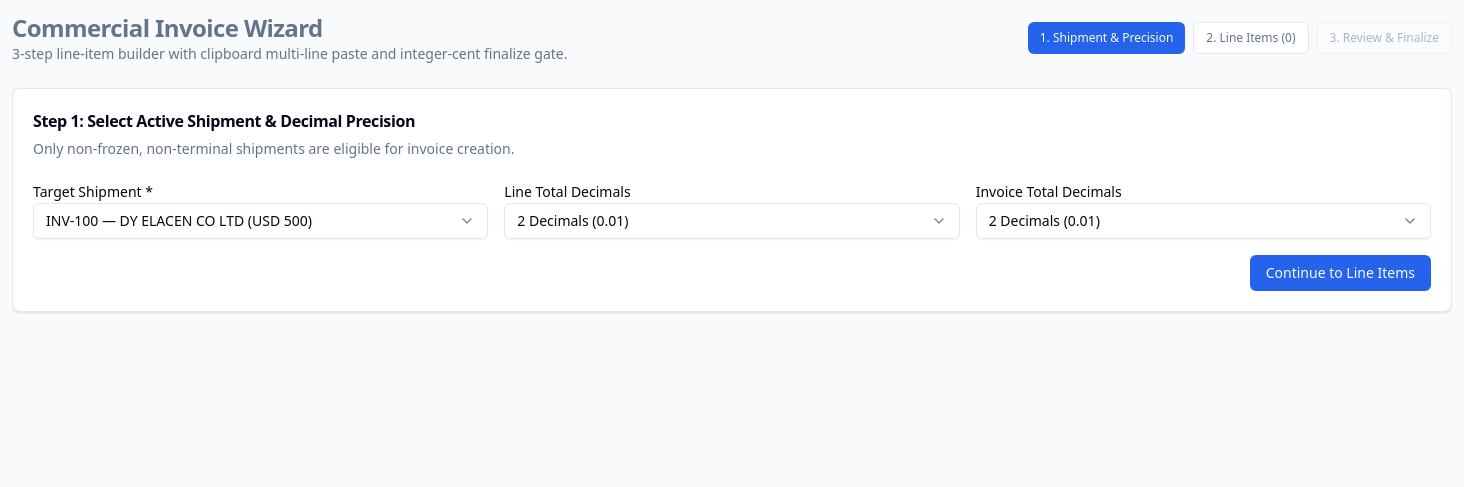
Test: Stage 5 Shipments & Invoice Wizard UI › filters Add Catalog Item in Invoice Wizard to shipment supplier by default and supports toggling
This screenshot has width=1464, height=487.
Click the button "Continue to Line Items" at (1340, 273), box [1250,255,1431,291]
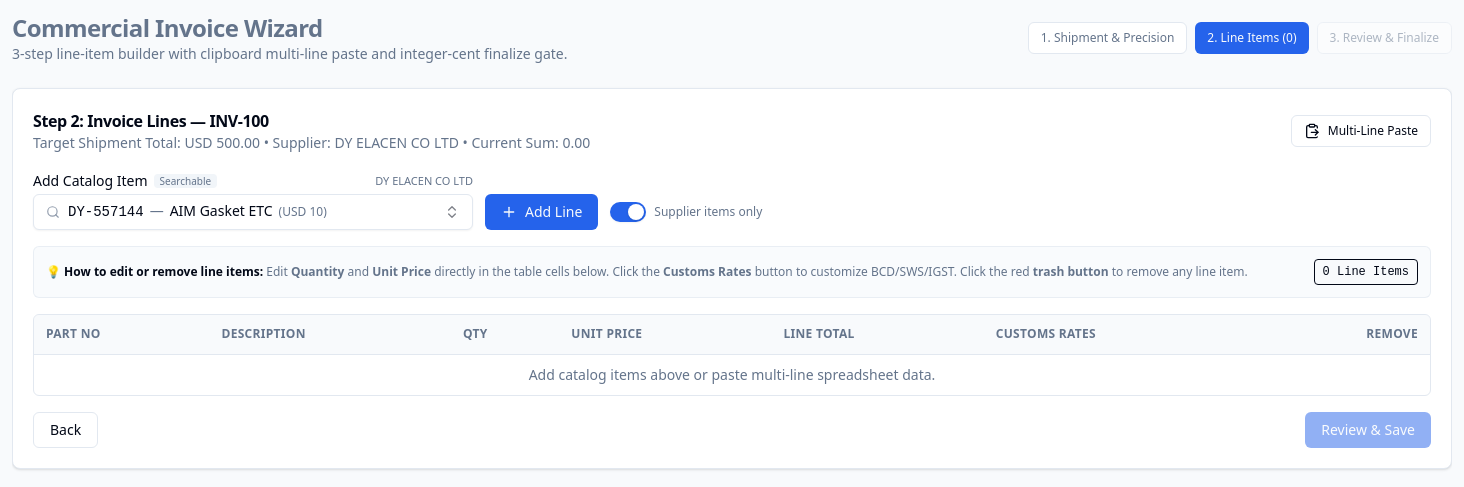
Now the switch named "Supplier items only" is checked
Now the text "DY-557144" is shown, box [68,204,144,220]
Toggle off "Supplier items only" to show all items
Click the switch named "Supplier items only" at (628, 212), box [610,202,646,222]
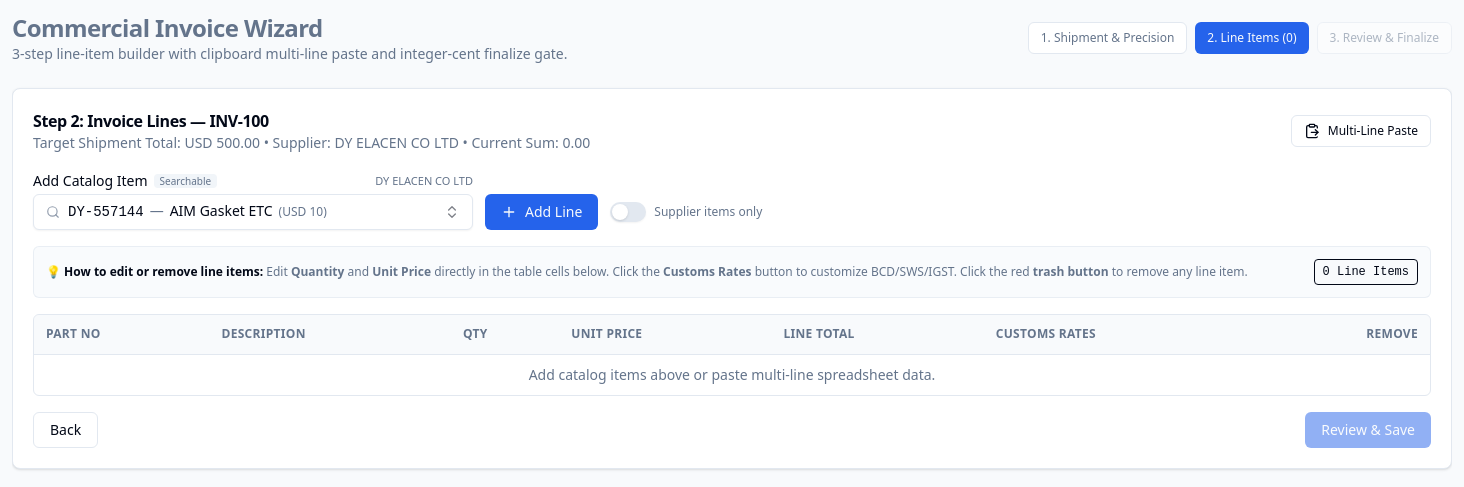
Now the switch named "Supplier items only" is not checked
Toggle back on to re-filter
Click the switch named "Supplier items only" at (628, 212), box [610,202,646,222]
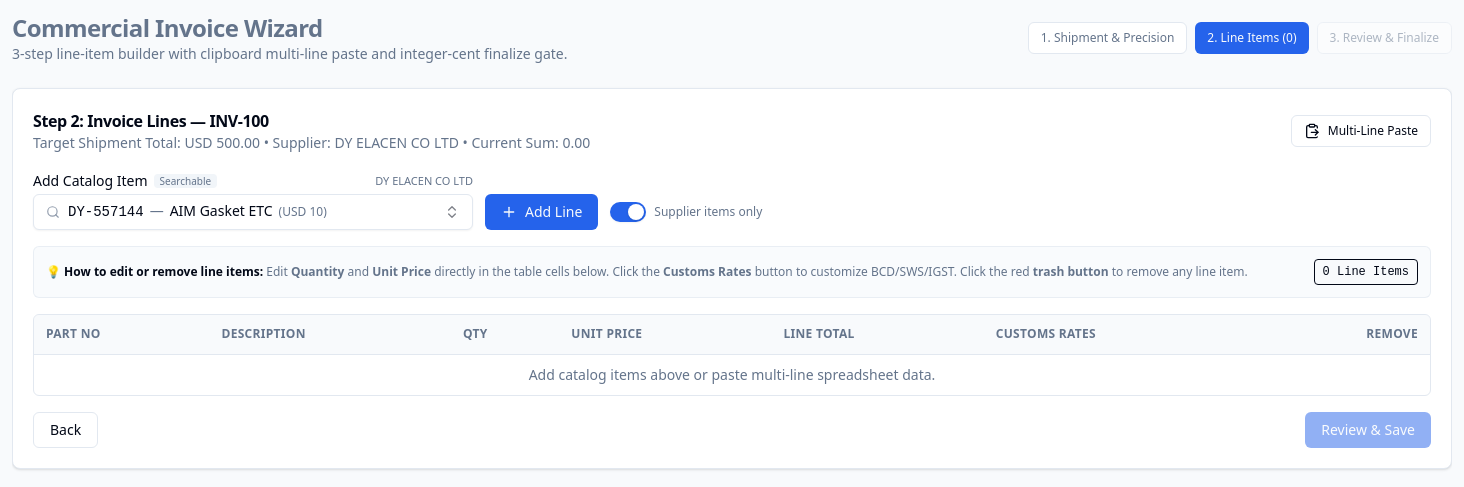
Now the switch named "Supplier items only" is checked, box [610,202,646,222]
